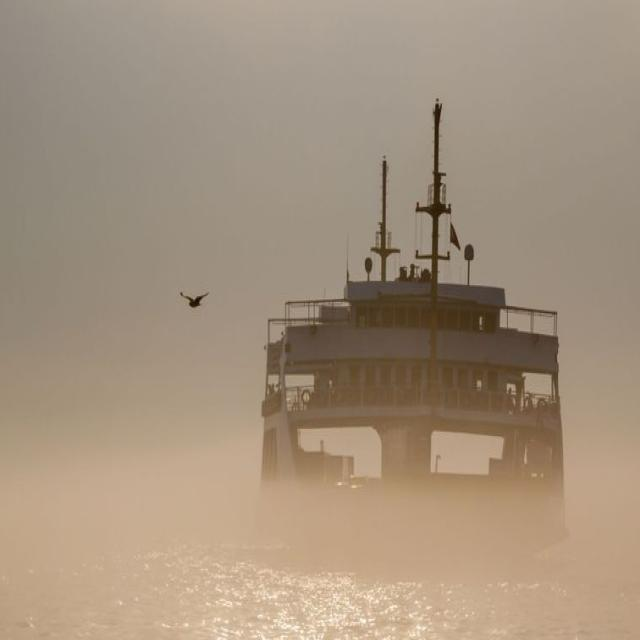passenger ship: (203, 153, 626, 580)
